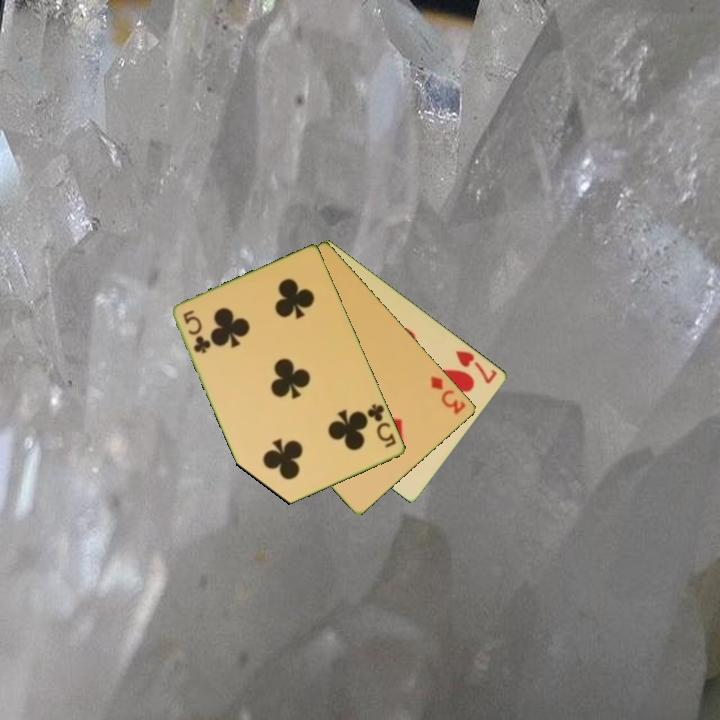3d: (427, 372, 469, 417)
5c: (364, 400, 399, 451), (180, 306, 214, 357)
7h: (452, 347, 500, 387)
